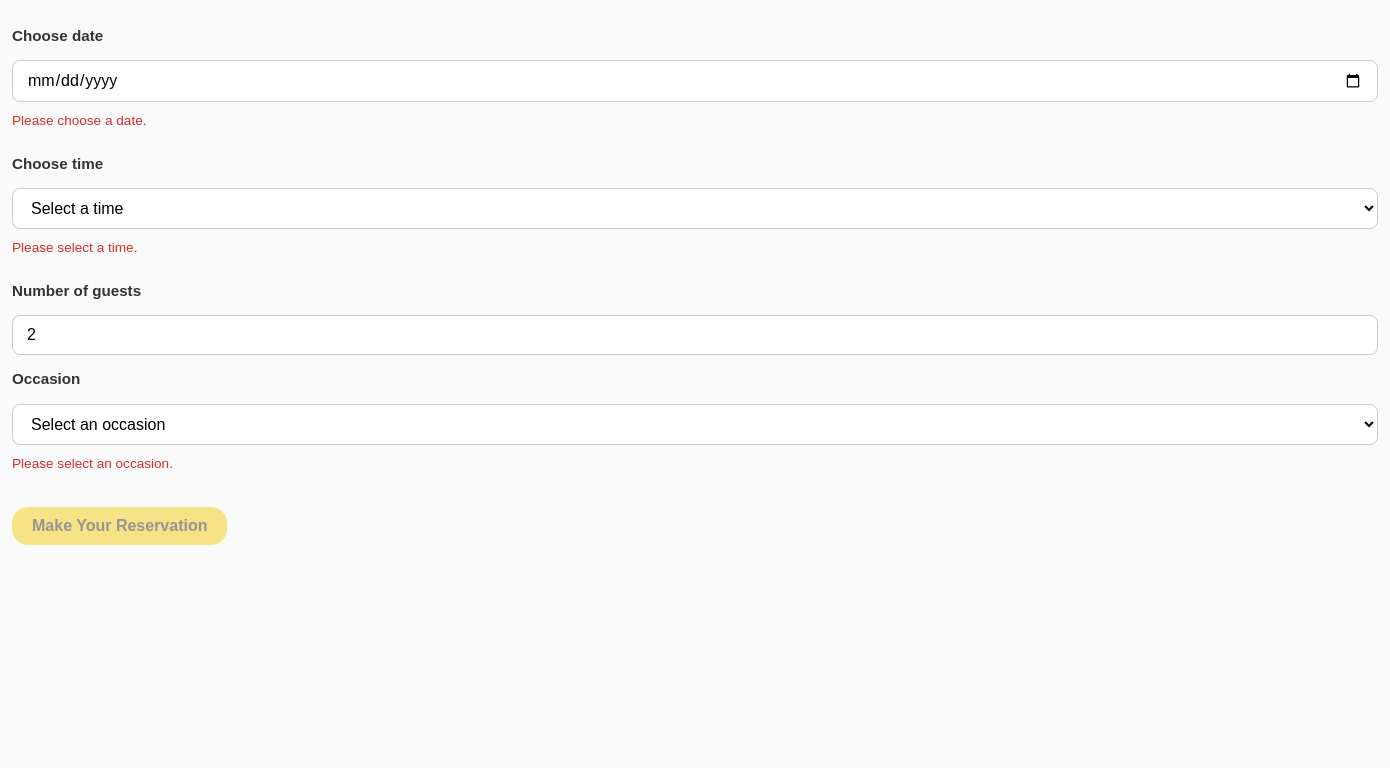
Test: Validation – valid states › Submit button is enabled when all fields are valid
Type "2026-03-15" into the date field labelled "Choose date".
click(695, 81); type("2026-03-15")  # box [12,60,1378,102]
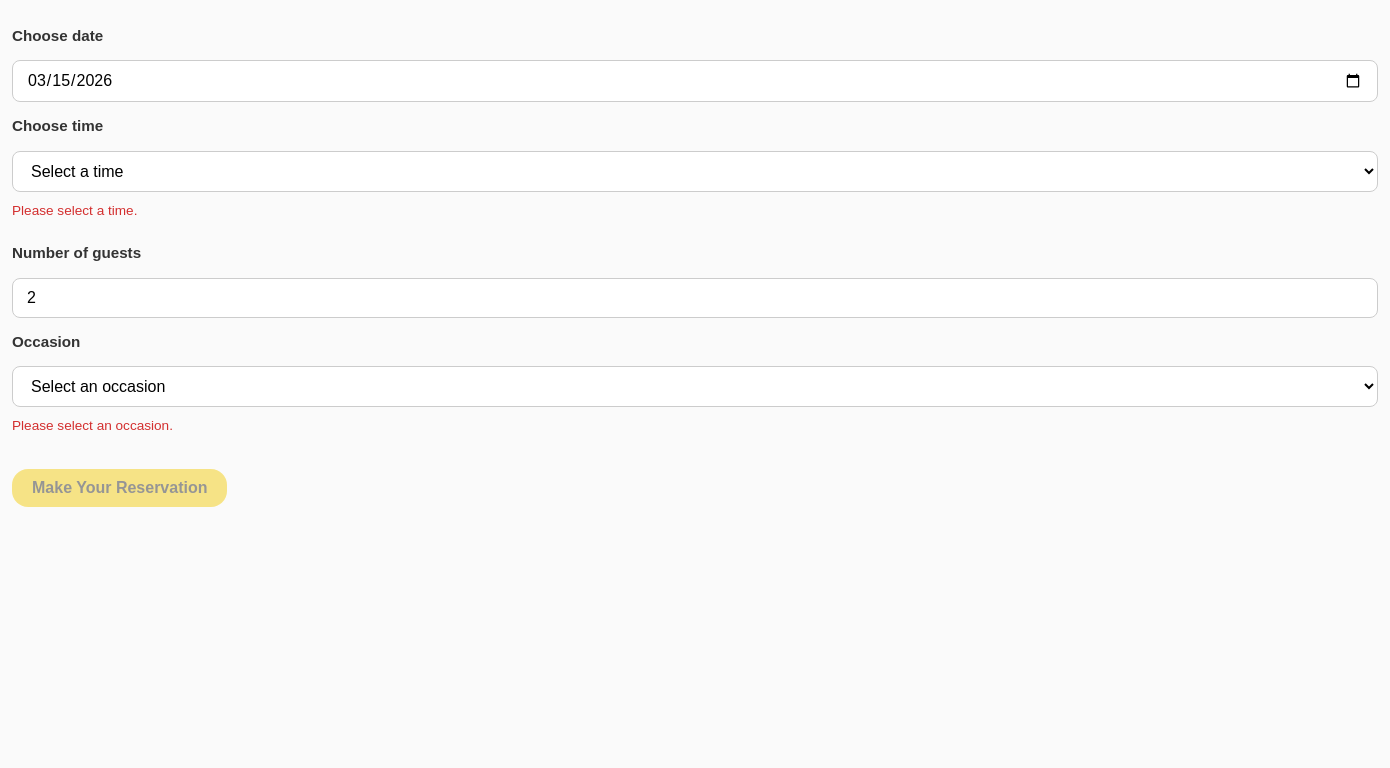
Select "17:00" in the dropdown labelled "Choose time" at (695, 171), box [12,151,1378,192]
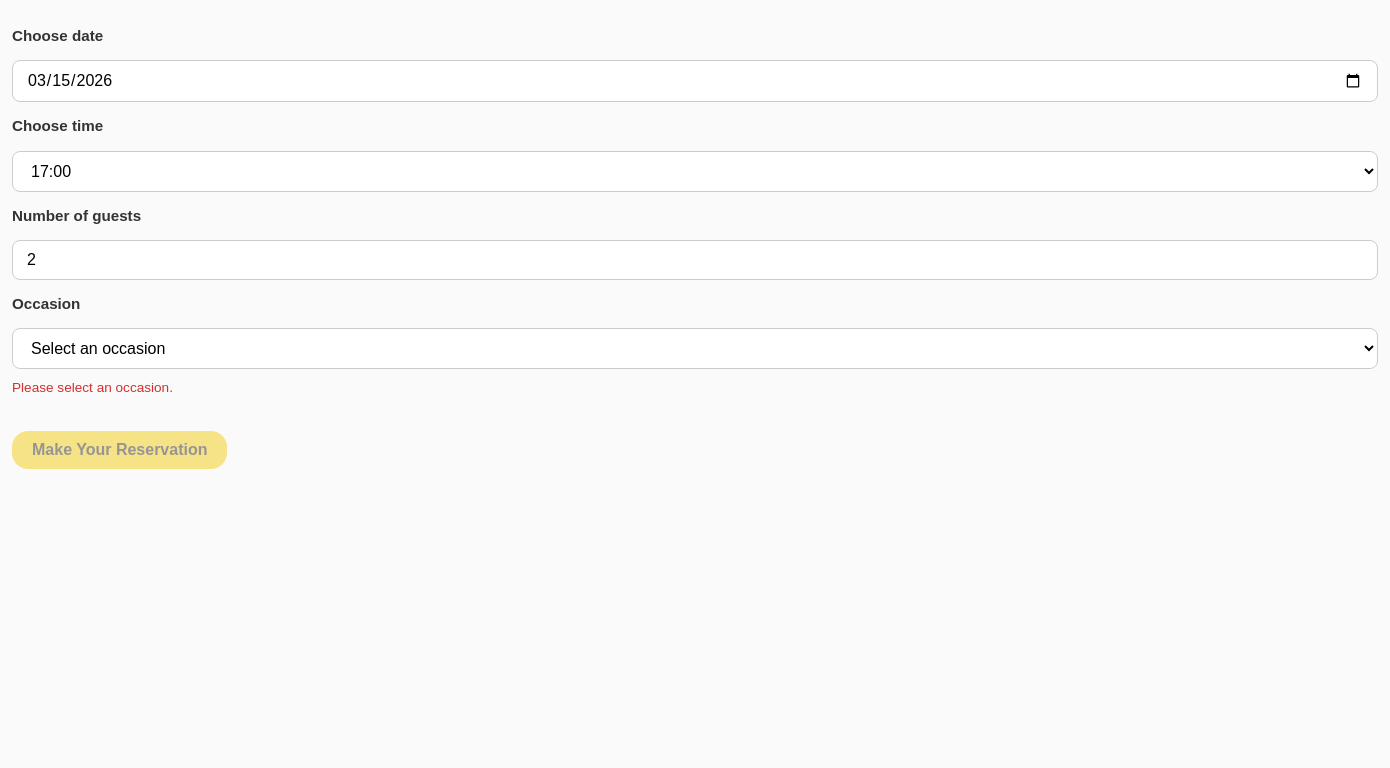
Replace the text in the number field labelled "Number of guests" with "4" at (695, 260), box [12,240,1378,280]
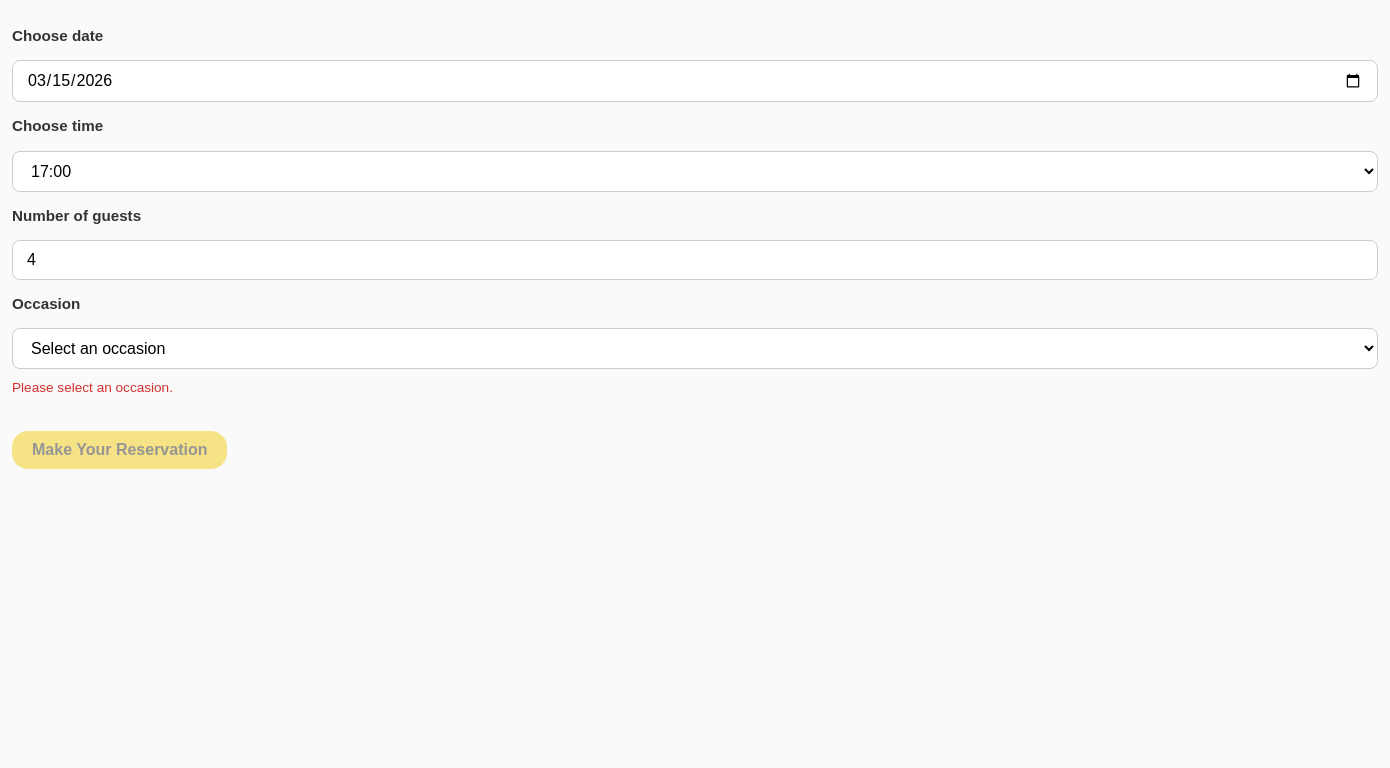
Select "Birthday" in the dropdown labelled "Occasion" at (695, 349), box [12,328,1378,369]
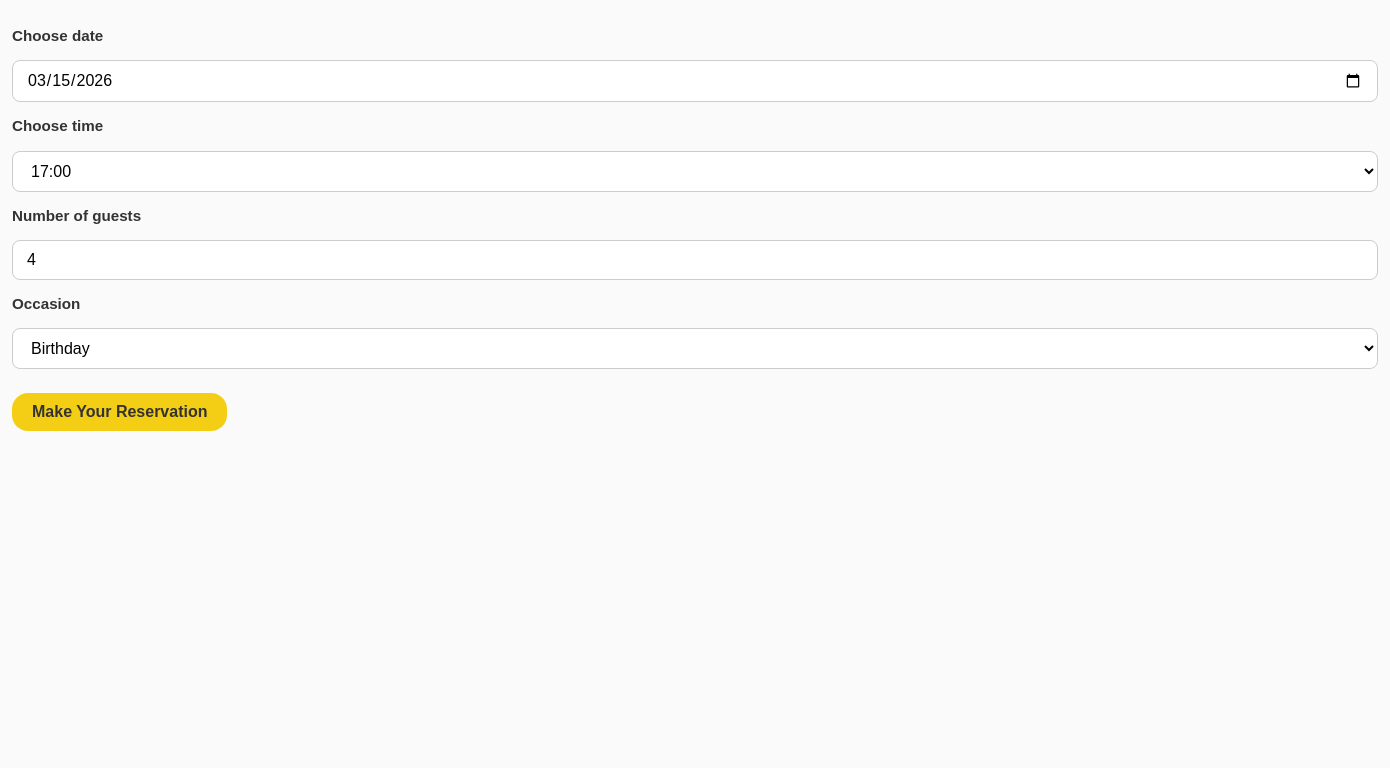
Check: the button "Make Your Reservation" is enabled, box [12,393,228,431]
